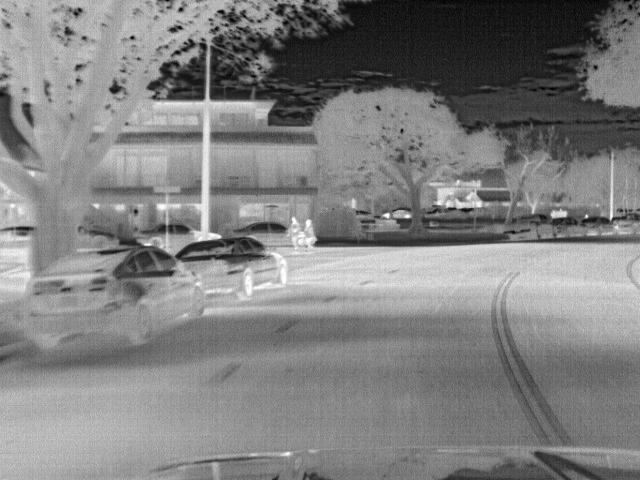car: (27, 242, 208, 351), (173, 236, 290, 296), (171, 222, 225, 252), (78, 224, 123, 254), (506, 212, 551, 241), (231, 223, 290, 245), (1, 222, 36, 250), (132, 220, 165, 248), (578, 216, 615, 236), (548, 218, 583, 238)
person: (303, 214, 318, 246), (290, 213, 304, 246)
